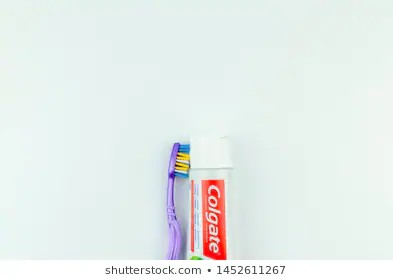toothbrush: (163, 142, 193, 258)
